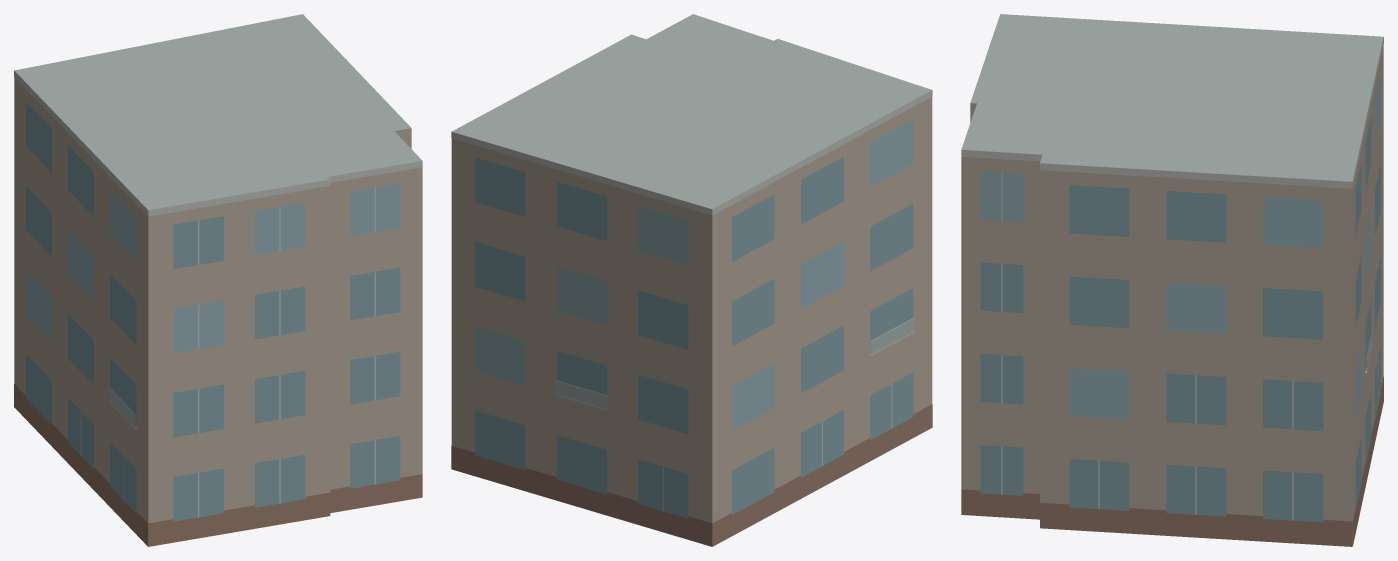
File: survey-upis-32810329.glb
3 views of the same model, side by side, from view 1: azimuth 30°, elevation 25°; view 2: azimuth 150°, elevation 25°; view 3: azimuth 270°, elevation 25° (orthographic). The views are drawn at different scales.
Visible parts, largest first — view 1: survey-upis-32810329.tmp; view 2: survey-upis-32810329.tmp; view 3: survey-upis-32810329.tmp.
Part boxes in pixels (<box>): survey-upis-32810329.tmp: <box>14,14,422,546</box>; survey-upis-32810329.tmp: <box>451,14,932,546</box>; survey-upis-32810329.tmp: <box>961,14,1383,546</box>.
Bounding box in the file's own units: 12.63 × 12.8 × 13.44.
